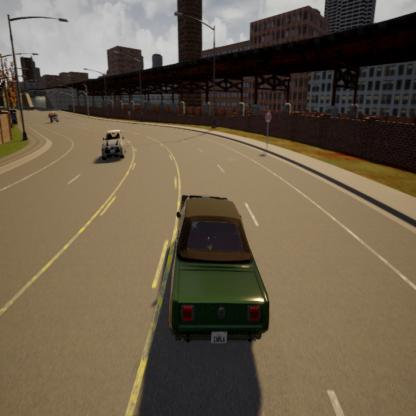Cars: (170, 196, 268, 352), (102, 129, 126, 160), (50, 115, 61, 126), (48, 108, 57, 119)
